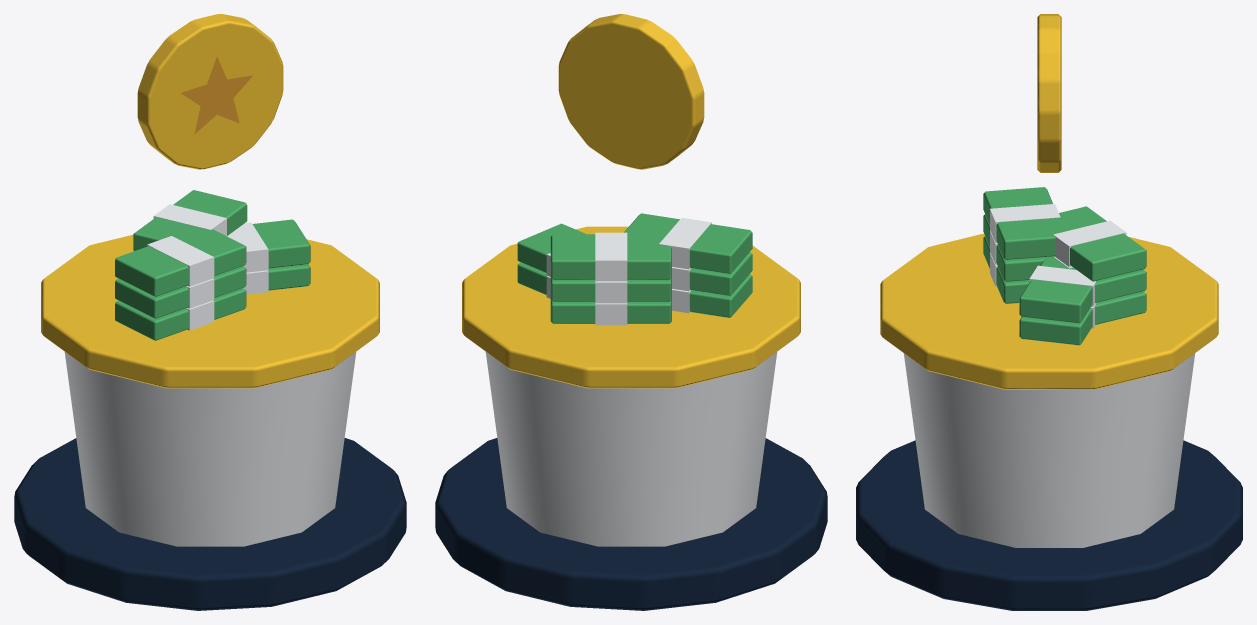
File: CM_Tycoon_CashCollector.fbx
The picture shows the model from 3 angles, left to right: view 1: azimuth 30°, elevation 25°; view 2: azimuth 150°, elevation 25°; view 3: azimuth 270°, elevation 25°; orthographic projection.
Visible parts, largest first — view 1: Body, Coin; view 2: Body, Coin; view 3: Body, Coin.
Boxes of the visible parts, <box> form: Body: <box>14,190,406,610</box>; Coin: <box>137,14,283,169</box>; Body: <box>435,213,827,610</box>; Coin: <box>558,14,704,169</box>; Body: <box>856,187,1242,610</box>; Coin: <box>1037,14,1061,172</box>.
Bounding box in the file's own units: 4.8 × 4.8 × 6.98.
1 material, 1 textured.
